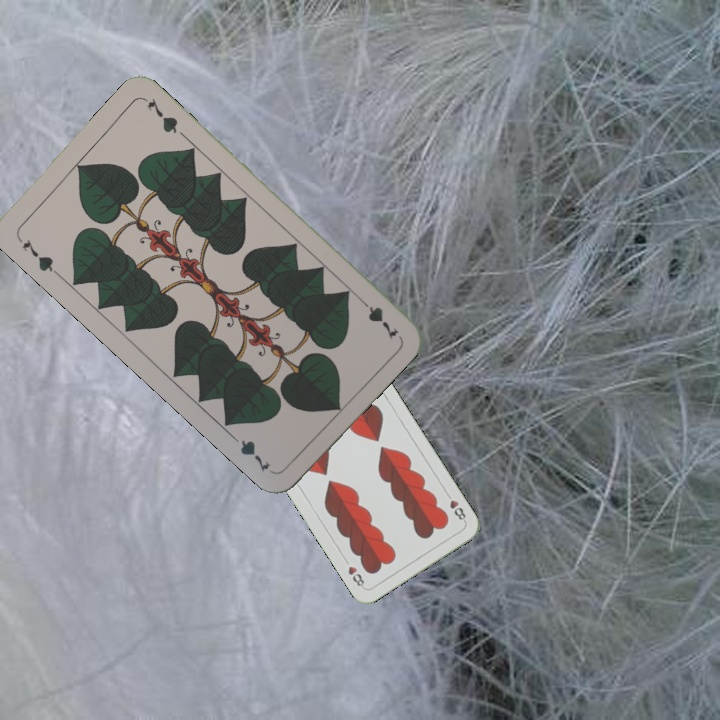G7: (353, 293, 402, 343), (19, 235, 62, 278)
H8: (442, 488, 468, 525)
